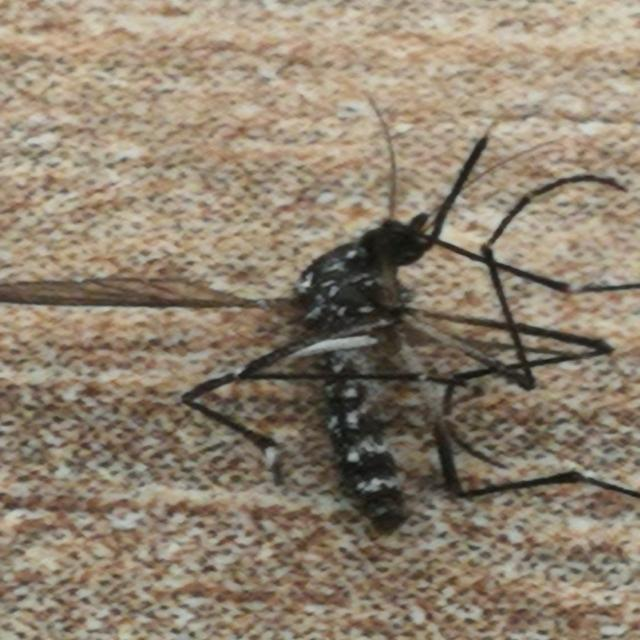albopictus: (175, 96, 640, 529)
